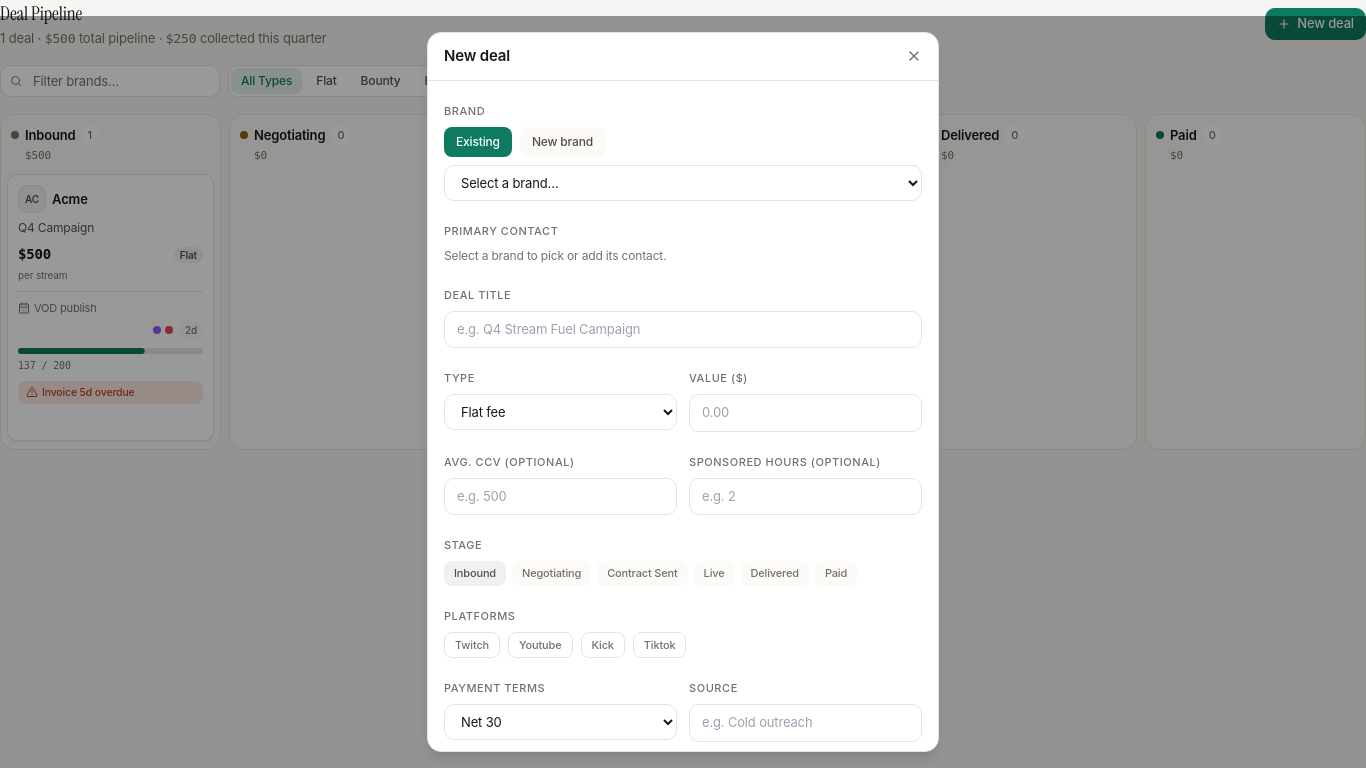
Test: New deal contact capture (SPO-298) › offers a contact picker once an existing brand is selected
Select "Acme" in the dropdown named "Brand": (683, 182) left=444, top=164, right=922, bottom=200
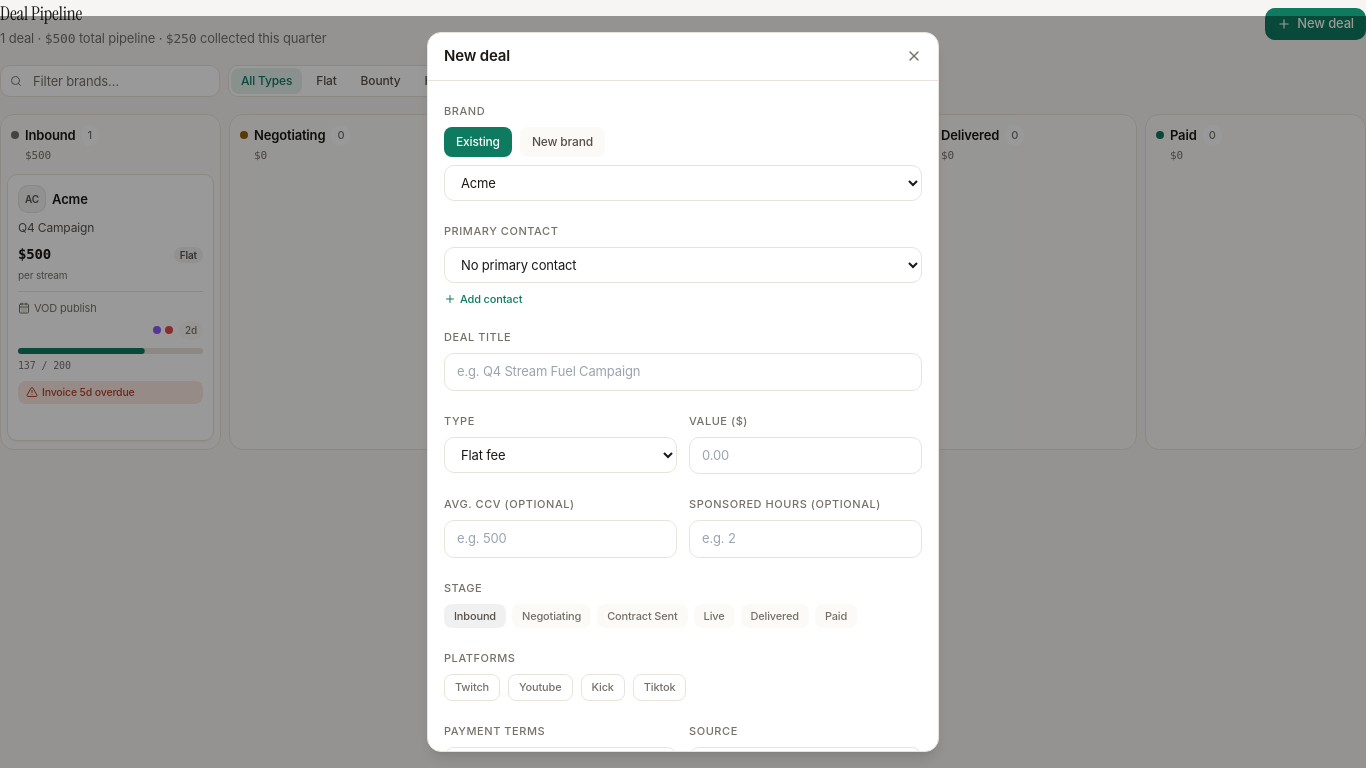
Check: the dropdown named "Primary contact" is shown, box left=444, top=246, right=922, bottom=282
Check: the button "Add contact" is shown, box left=444, top=290, right=522, bottom=307
